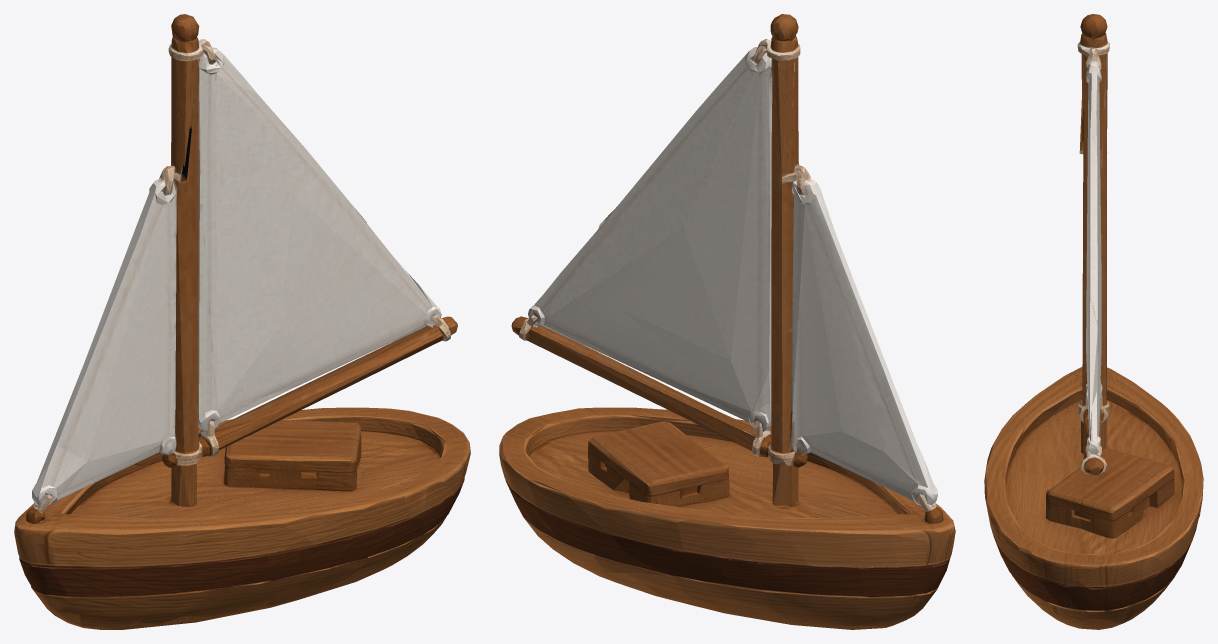
File: sailboat.glb
3 renders of one model, left to right at view 1: azimuth 30°, elevation 25°; view 2: azimuth 150°, elevation 25°; view 3: azimuth 270°, elevation 25°, orthographic. The views are drawn at different scales.
Parts seen in each view (by area): view 1: output_unwrapped; view 2: output_unwrapped; view 3: output_unwrapped.
Part boxes in pixels (box(x1,y1,x2,y2)): output_unwrapped: box(14, 14, 470, 629); output_unwrapped: box(499, 14, 955, 629); output_unwrapped: box(984, 14, 1203, 629).
Bounding box in the file's own units: 1.51 × 1.9 × 0.7201.
1 material, 1 textured.
